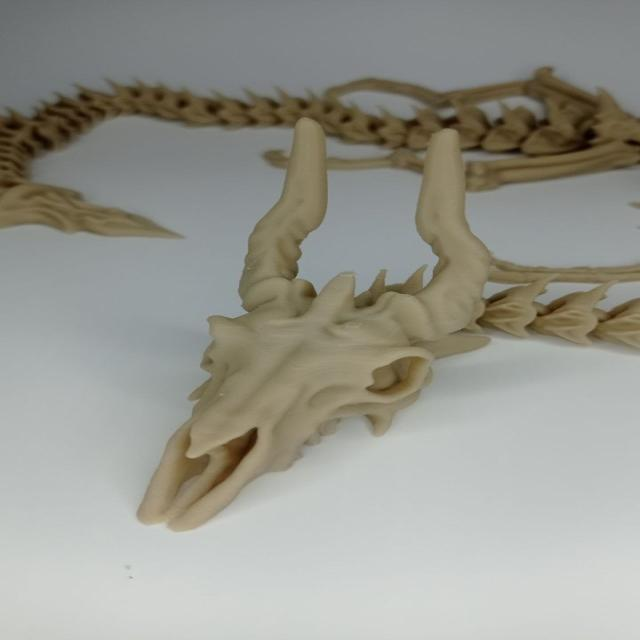Without deffect: (5, 56, 639, 540)
